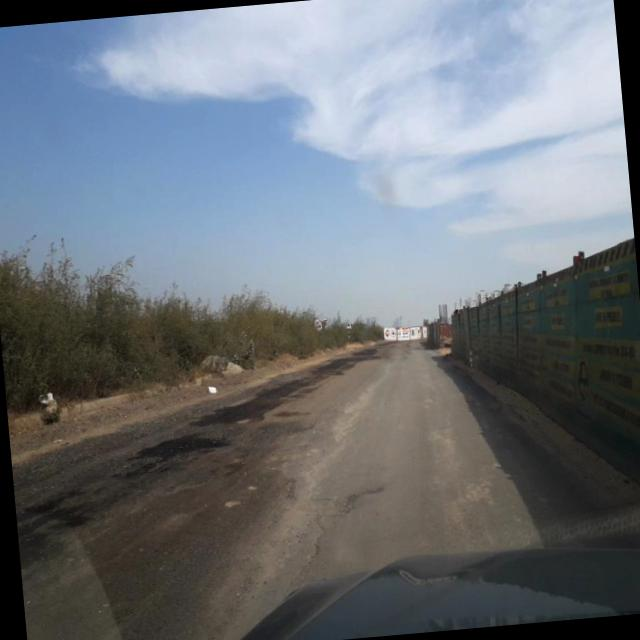pothole: (13, 397, 315, 640), (205, 446, 342, 604)
